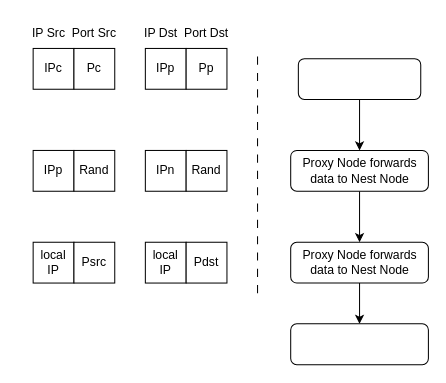
Some shapes in this 446 by 383 pixel diagram are drawn without their labels. Each missing label, with the centre of its shape:
"Client retrieves data using GET" belongs at pixel 359 78.
"Proxy Node forwards data to IoT Device" belongs at pixel 359 344.
